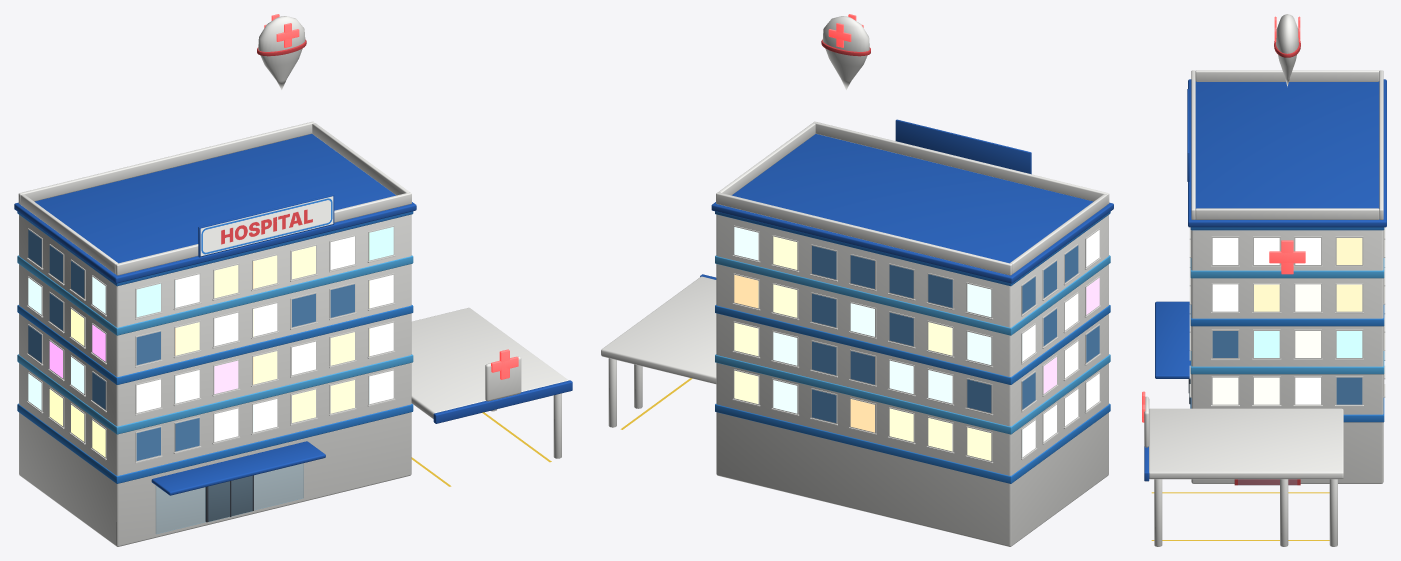
File: hospital.glb
3 views of the same model, side by side, from view 1: azimuth 30°, elevation 25°; view 2: azimuth 150°, elevation 25°; view 3: azimuth 270°, elevation 25° (orthographic). The views are drawn at different scales.
Parts seen in each view (by area): view 1: hospital, pino_hospital; view 2: hospital, pino_hospital; view 3: hospital, pino_hospital.
Part boxes in pixels (x1,y1,x2,y2): hospital: (14,121,572,546); pino_hospital: (257,14,306,89); hospital: (601,119,1113,546); pino_hospital: (821,14,870,89); hospital: (1142,70,1386,546); pino_hospital: (1274,14,1300,86).
Bounding box in the file's own units: 29.45 × 28.65 × 14.78.
Materials: 11 (2 with a texture image).
